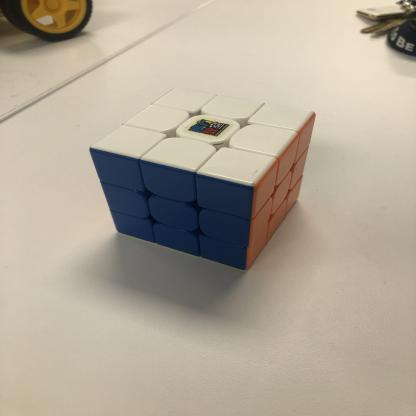SolvedCube: (68, 82, 336, 278)
